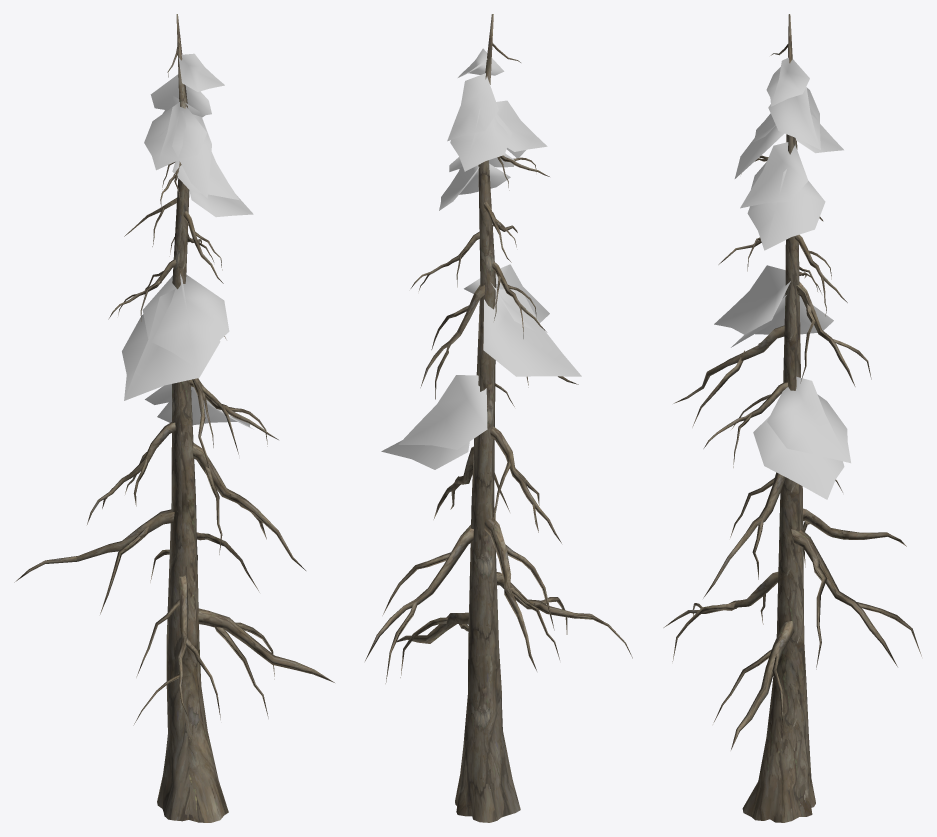
File: SM_Com_Tre_16BL.fbx
3 views of the same model, side by side, from view 1: azimuth 30°, elevation 25°; view 2: azimuth 150°, elevation 25°; view 3: azimuth 270°, elevation 25° (orthographic).
Parts seen in each view (by area): view 1: SM_Com_Tre_16BL.mo; view 2: SM_Com_Tre_16BL.mo; view 3: SM_Com_Tre_16BL.mo.
Boxes of the visible parts, box(x1,y1,x2,y2) form: SM_Com_Tre_16BL.mo: box(14, 14, 334, 822); SM_Com_Tre_16BL.mo: box(365, 14, 632, 822); SM_Com_Tre_16BL.mo: box(663, 14, 921, 822).
Bounding box in the file's own units: 3.12 × 10.16 × 3.04.
